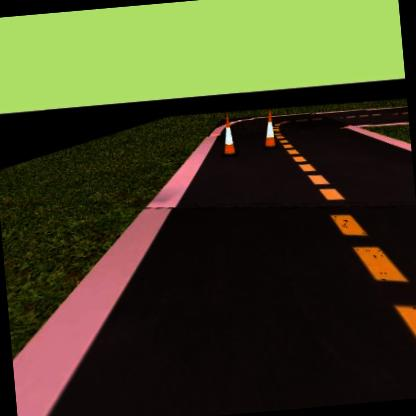Cone: (216, 112, 241, 160), (257, 104, 281, 151)
